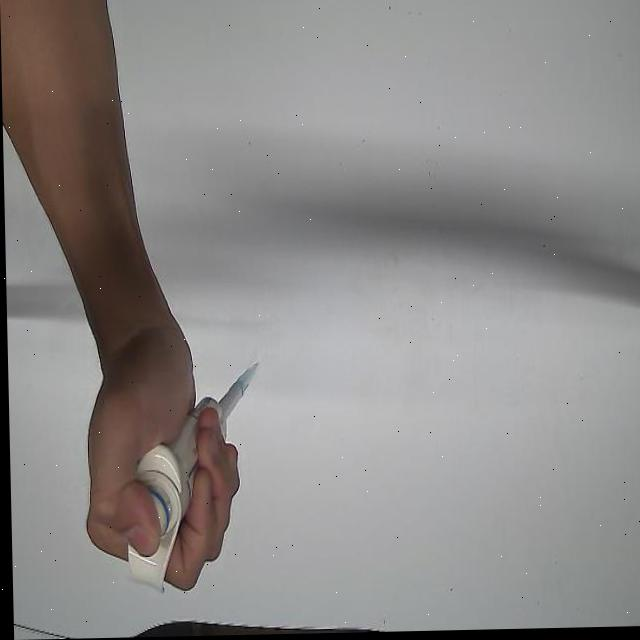Single Channel Pipettor: (121, 375, 250, 597)
